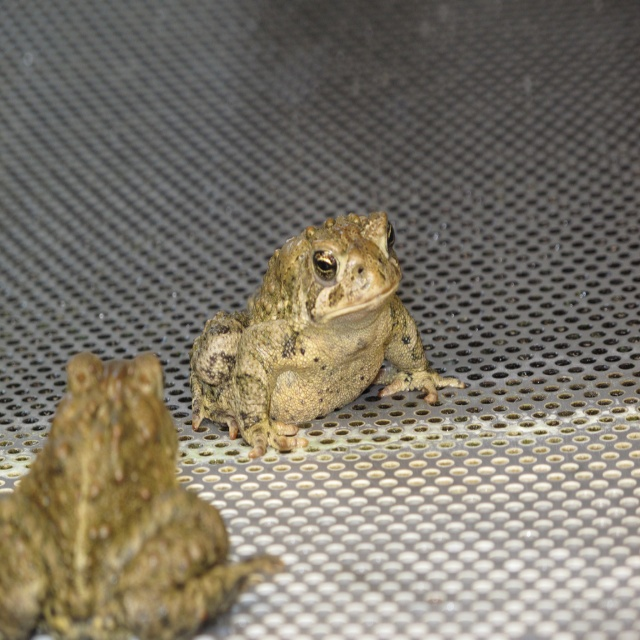Frog: (0, 350, 287, 639), (190, 210, 469, 459)
